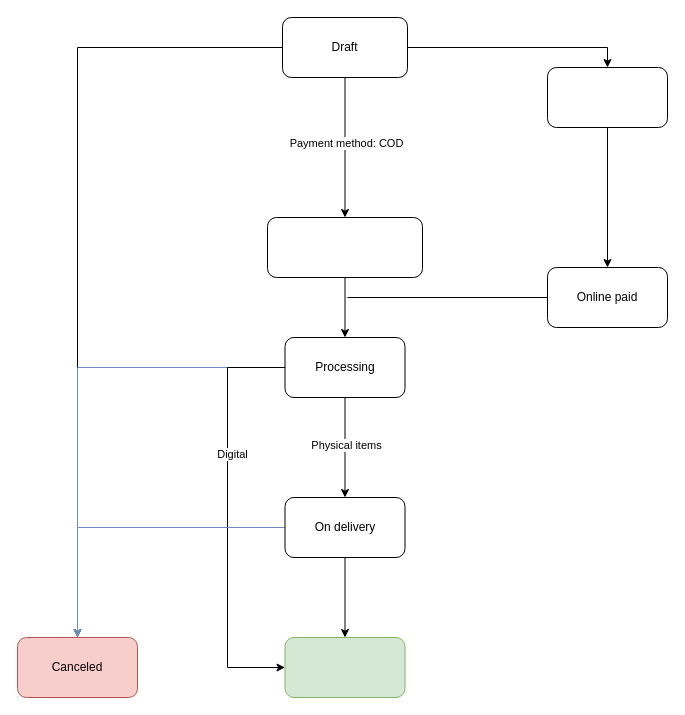
The diagram is 685 pixels wide and 715 high, and some of its shapes have lost their labels. Here are the shapes that lost their labels. From the top down, the centre of each, then its label:
At [607,97]: "Waiting for payment".
At [344,247]: "Waiting for confirmation".
At [344,667]: "Completed".
